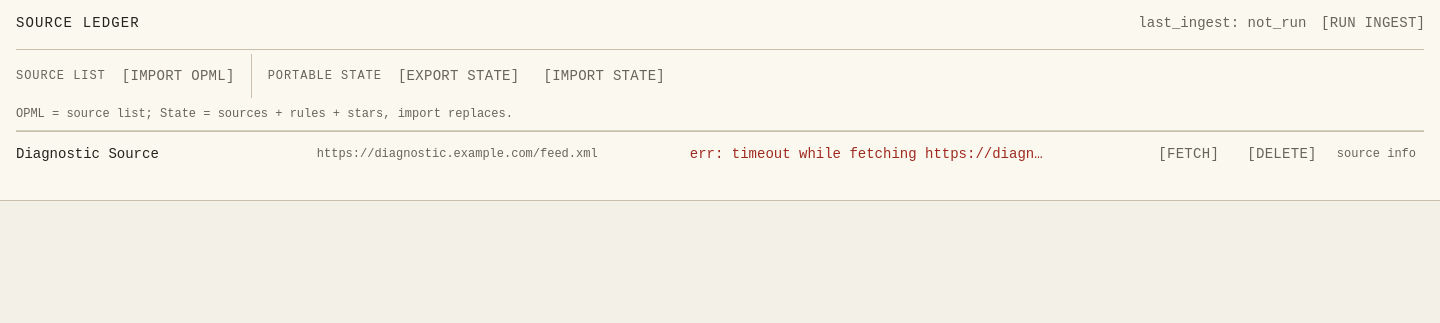
Manual RSS Fetch Source Ledger regression contract › preserves raw err diagnostics and exposes the full diagnostic through title and disclosure text
This screenshot has width=1440, height=323.
What coordinates should you click on to do the following:
click the heading "source info"
I would click on:
 (1376, 154)
Its box is [1337,147,1416,161].
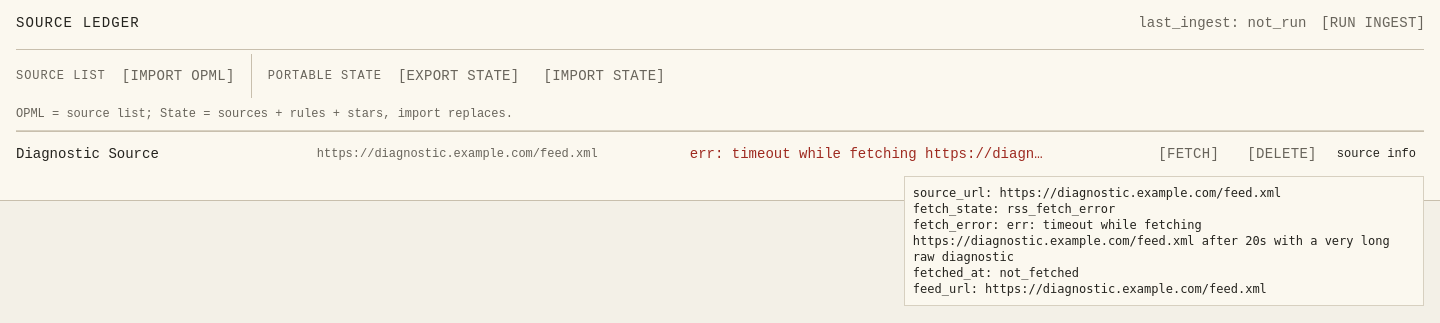
Check: the text "fetch_error: err: timeout while fetching" is shown, box [913,186,1397,296]
